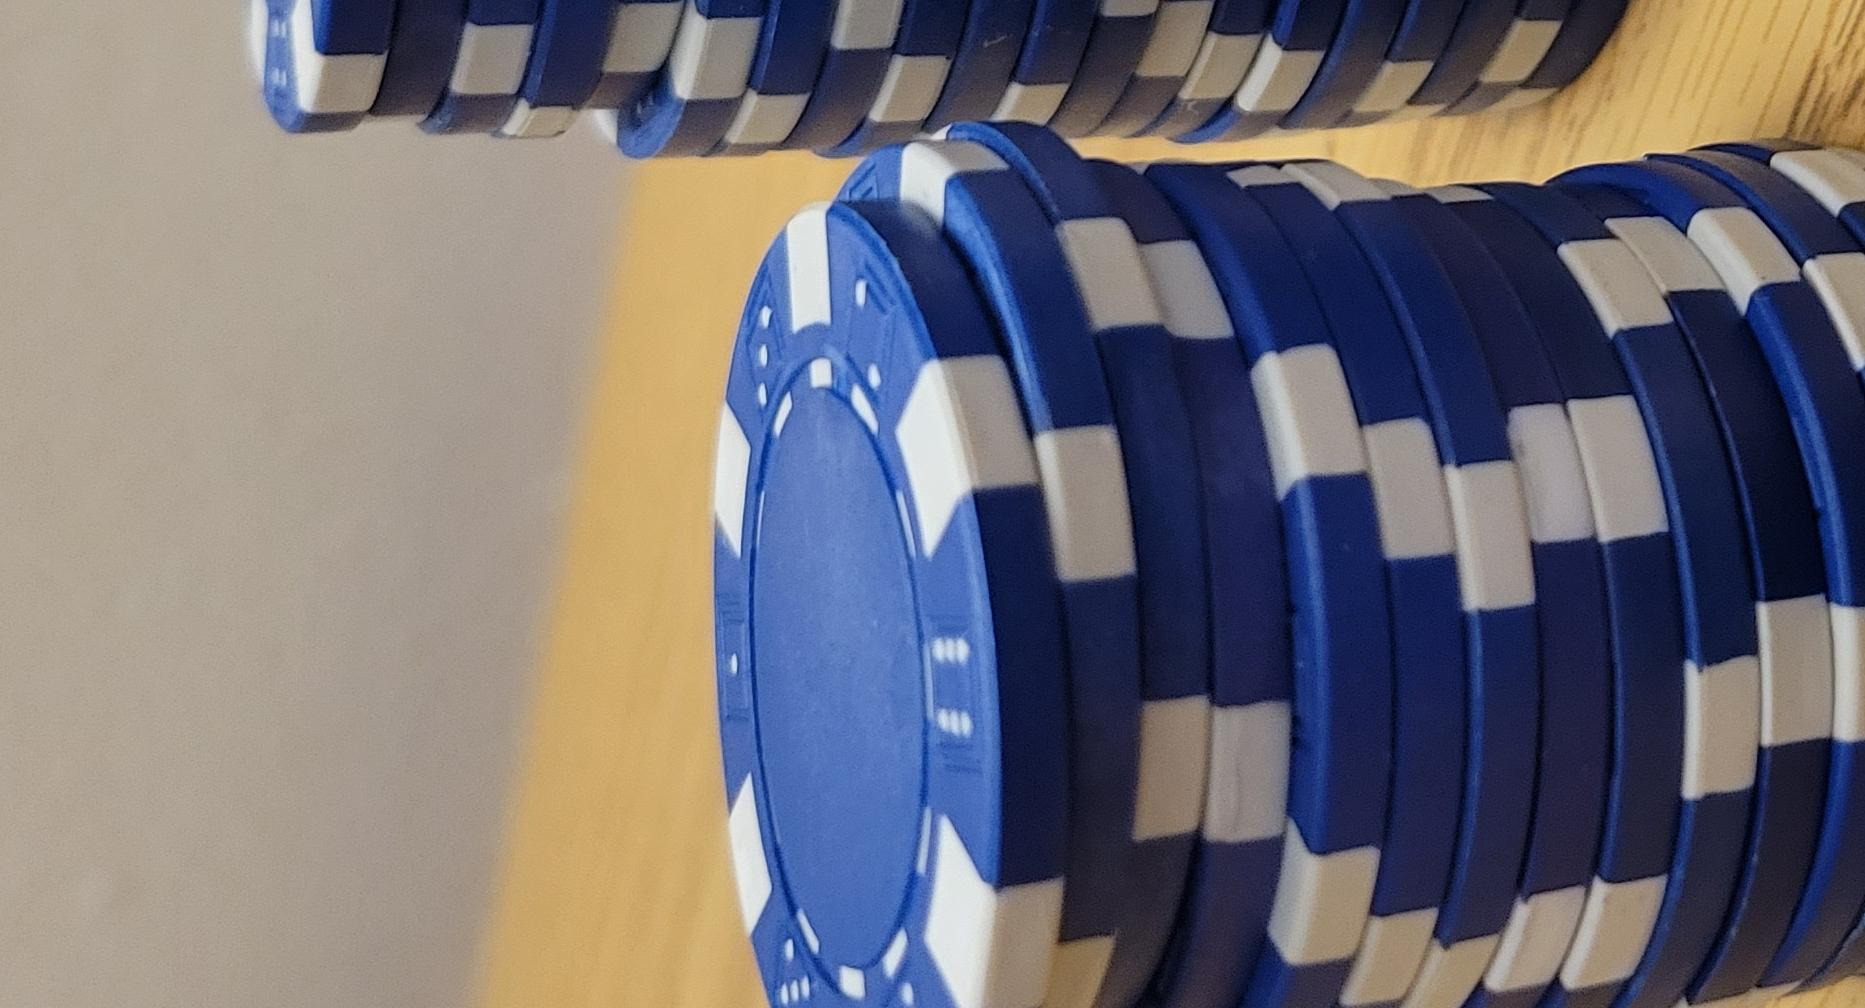Chip: (1, 544, 1307, 1008)
